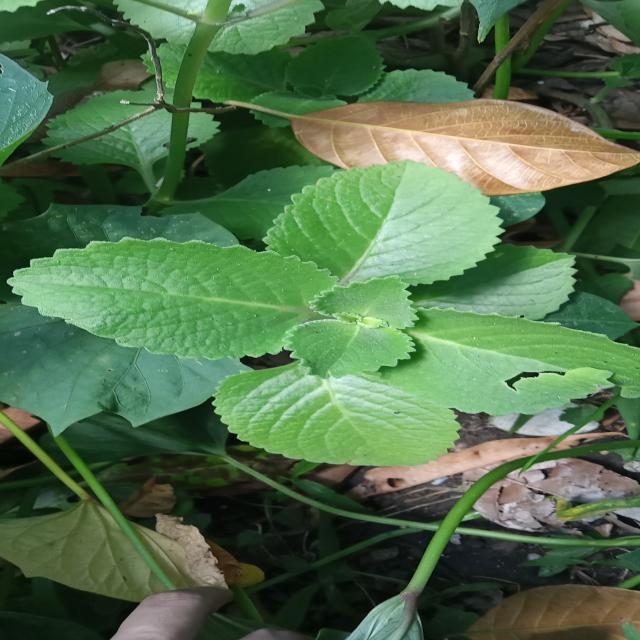Oregano: (35, 159, 640, 463)
